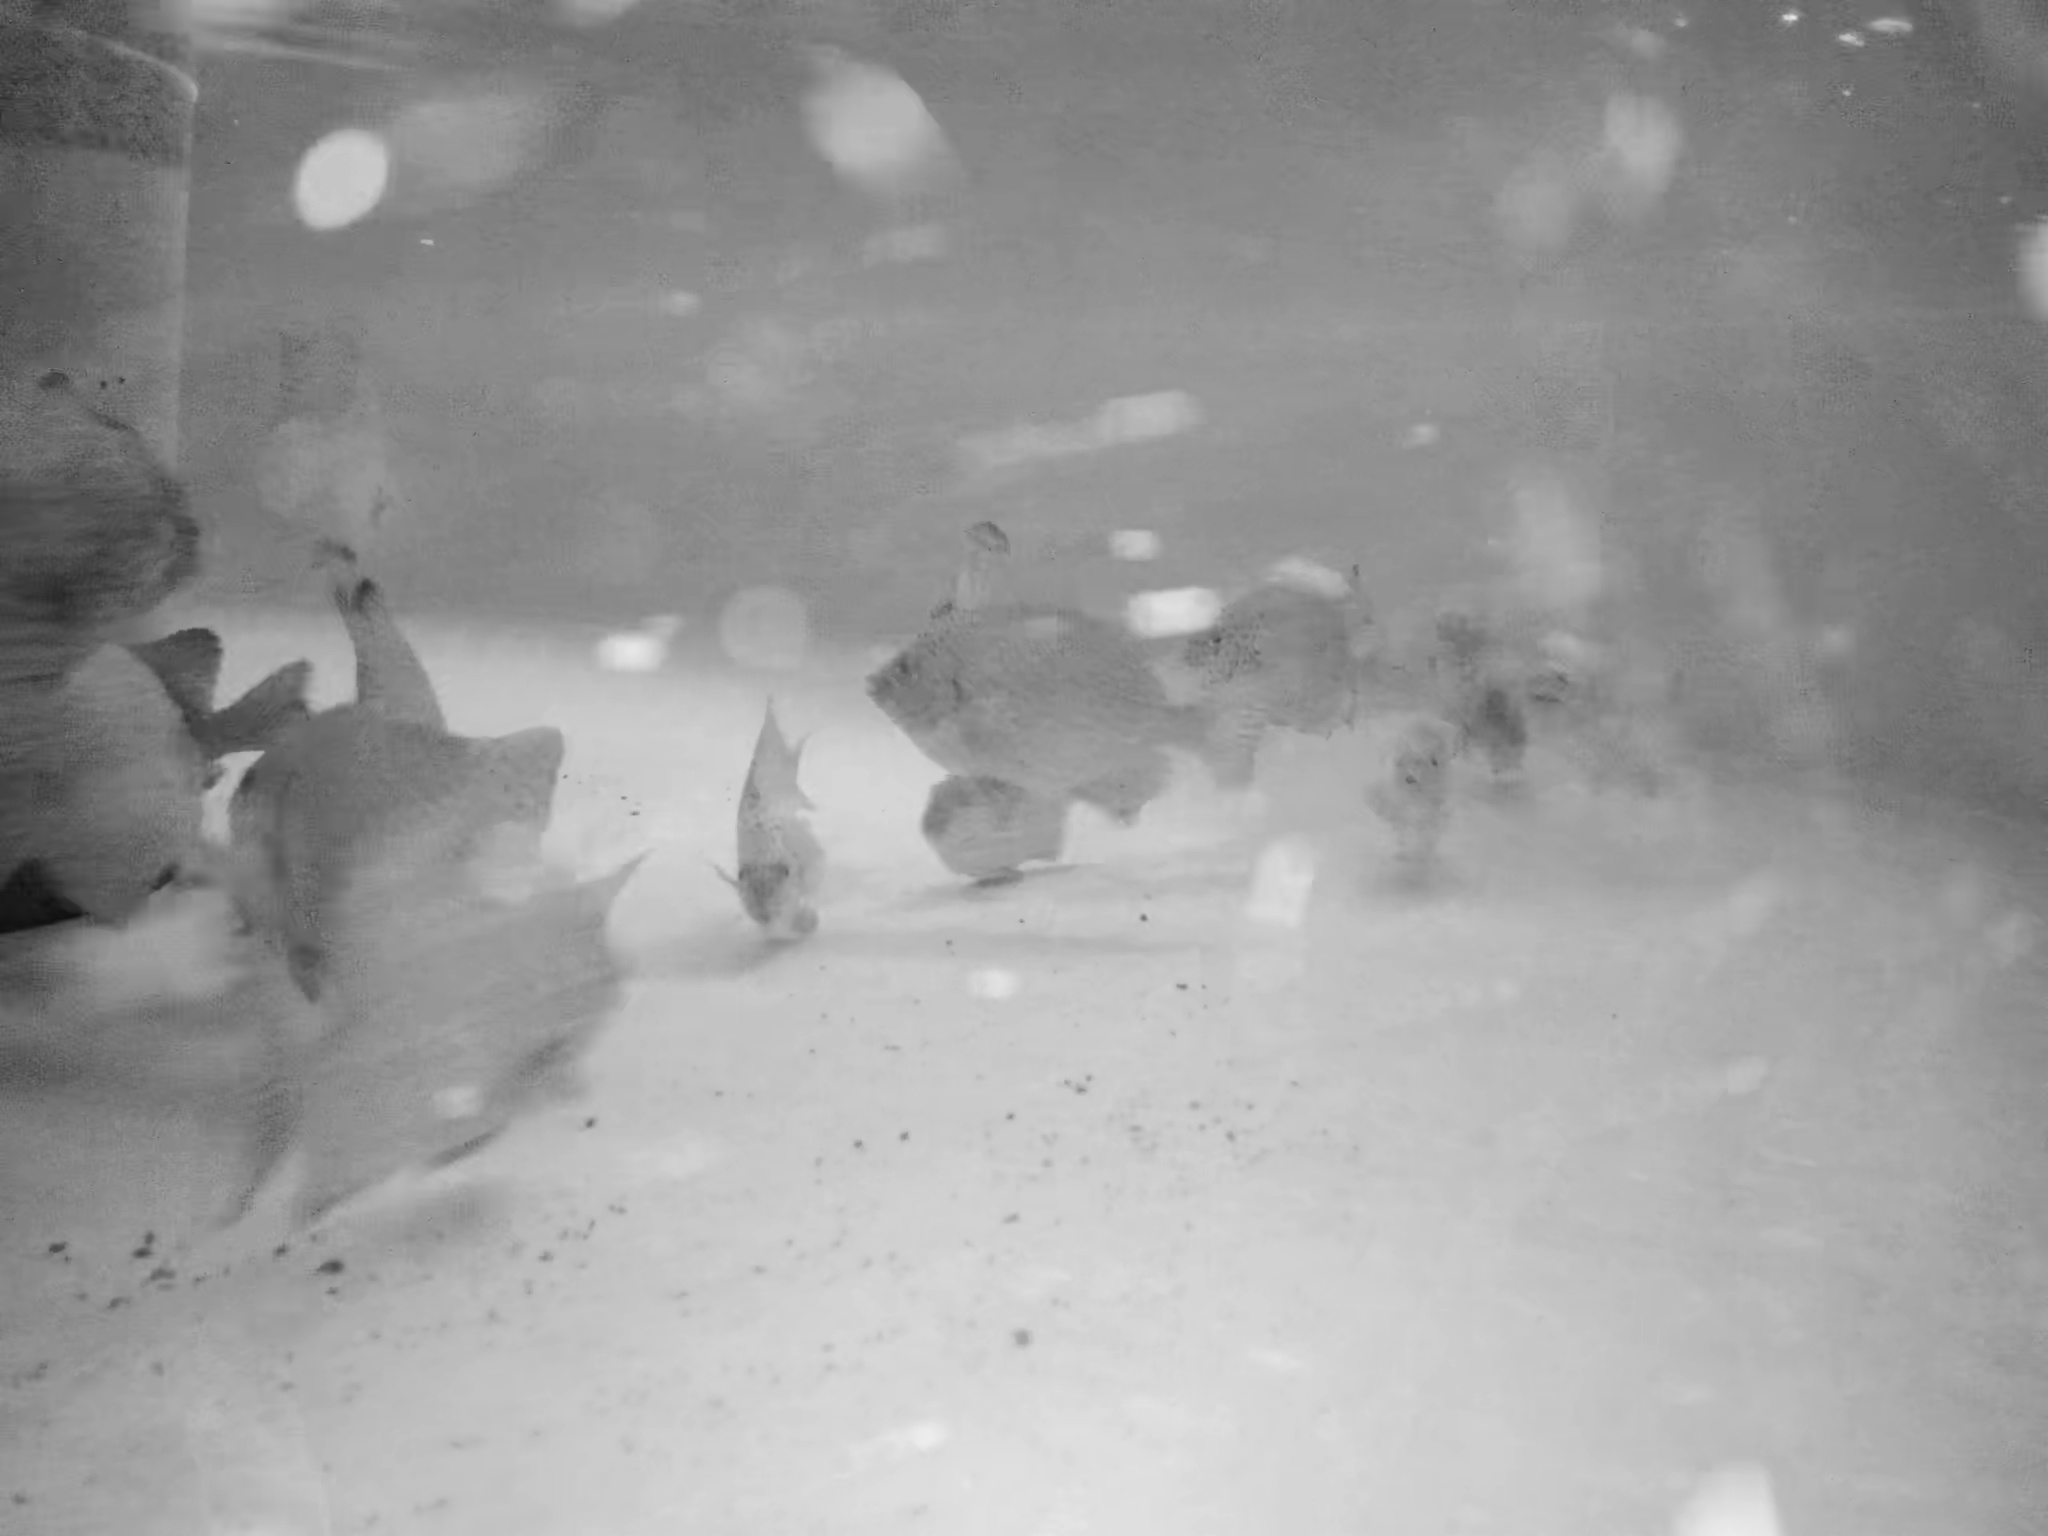fish: (177, 899, 622, 1205), (856, 594, 1272, 841), (187, 686, 566, 915), (268, 307, 452, 587), (11, 642, 200, 913), (6, 378, 223, 610), (1180, 550, 1435, 745), (316, 557, 477, 799), (722, 679, 855, 971), (135, 613, 305, 750), (1495, 616, 1659, 749), (1430, 574, 1529, 795), (913, 766, 1068, 907), (1367, 733, 1471, 904)
